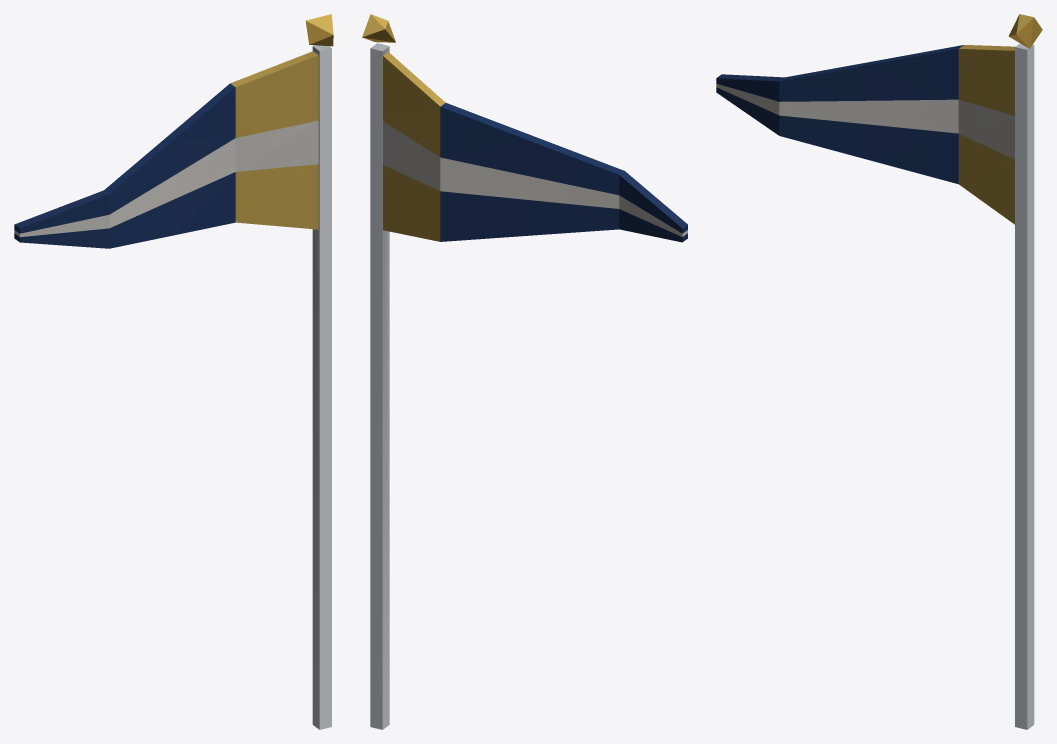
The model's file is gd_motorboat_flag.glb.
3 renders of one model, left to right at view 1: azimuth 30°, elevation 25°; view 2: azimuth 150°, elevation 25°; view 3: azimuth 330°, elevation 25°, orthographic.
Parts seen in each view (by area): view 1: base; view 2: base; view 3: base.
Part boxes in pixels (left/top/right/bottom): base: left=14, top=14, right=333, bottom=729; base: left=362, top=14, right=687, bottom=729; base: left=716, top=14, right=1042, bottom=729.
Size of the model in its own units: 0.1654 by 0.3555 by 0.029.
